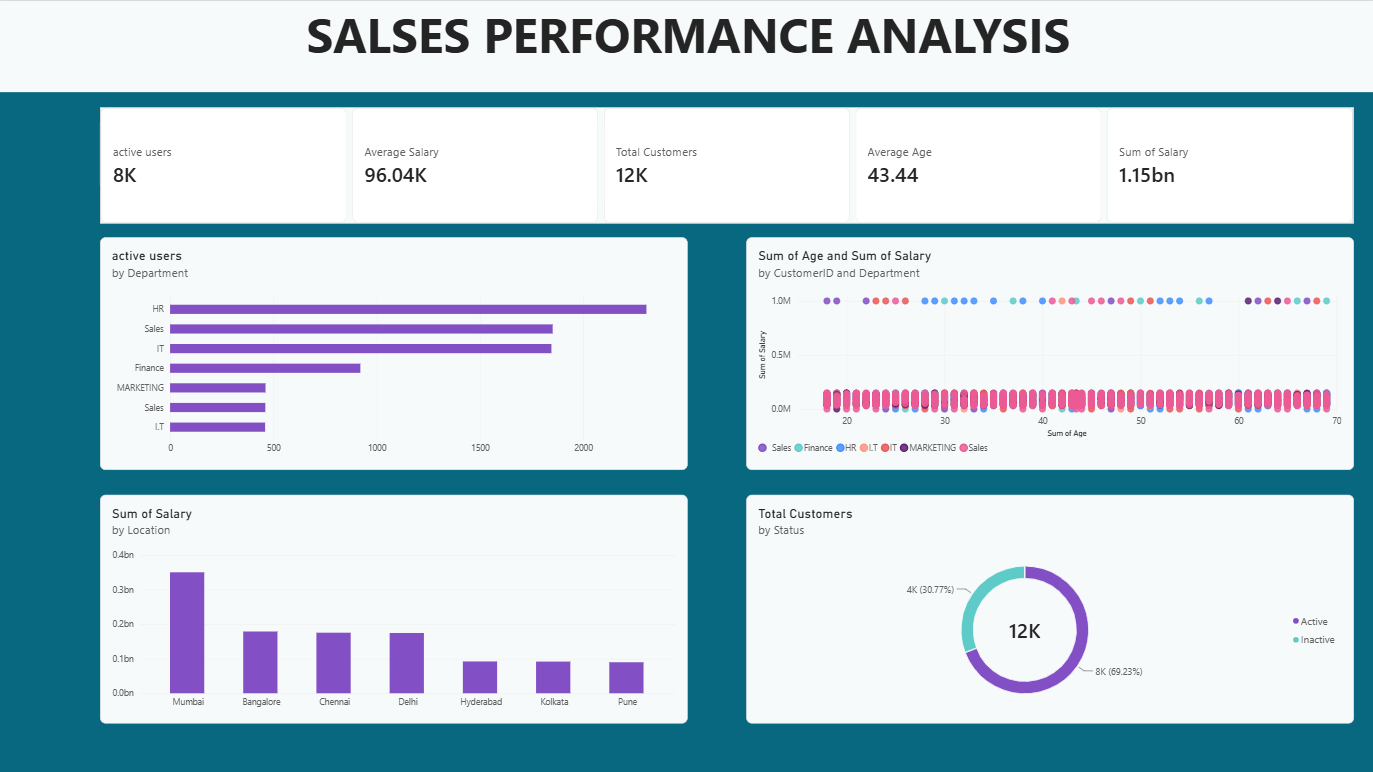

What the dashboard file says about the page in this screenshot:
{"tool":"powerbi","page":{"name":"Page 1","canvas":[1920,1080],"ordinal":0},"visuals":[{"type":"cardVisual","fields":{"Data":["final_cleaned_dataset.active users","final_cleaned_dataset.Average Salary","final_cleaned_dataset.Total Customers","final_cleaned_dataset.Average Age","Sum(final_cleaned_dataset.Salary)"]},"box":[139.5,148.3,1749.4,162.2],"z":0},{"type":"scatterChart","fields":{"X":["Sum(final_cleaned_dataset.Age)"],"Y":["Sum(final_cleaned_dataset.Salary)"],"Category":["final_cleaned_dataset.CustomerID"],"Series":["final_cleaned_dataset.Department"]},"box":[1041.3,329.7,847.7,324.4],"z":2},{"type":"clusteredBarChart","fields":{"Y":["final_cleaned_dataset.active users"],"Category":["final_cleaned_dataset.Department"]},"box":[139.5,329.7,819.8,324.4],"z":3},{"type":"donutChart","fields":{"Y":["final_cleaned_dataset.Total Customers"],"Category":["final_cleaned_dataset.Status"]},"box":[1041.3,689,847.7,319.2],"z":4},{"type":"columnChart","fields":{"Category":["final_cleaned_dataset.Location"],"Y":["Sum(final_cleaned_dataset.Salary)"]},"box":[139.5,689,819.8,319.2],"z":5},{"type":"textbox","title":"SALSES PERFORMANCE ANALYSIS","box":[0,0,1920.4,127.3],"z":6}]}

Visuals, with their boxes in screenshot pixels (x1, y1, x2, y2), scaled from the page's 1920x1080 canvas onto the 1373x772 screenshot:
cardVisual - final_cleaned_dataset.active users x final_cleaned_dataset.Average Salary: [left=100, top=106, right=1351, bottom=222]
scatterChart - Sum(final_cleaned_dataset.Age) x Sum(final_cleaned_dataset.Salary): [left=745, top=236, right=1351, bottom=468]
clusteredBarChart - final_cleaned_dataset.active users x final_cleaned_dataset.Department: [left=100, top=236, right=686, bottom=468]
donutChart - final_cleaned_dataset.Total Customers x final_cleaned_dataset.Status: [left=745, top=493, right=1351, bottom=721]
columnChart - final_cleaned_dataset.Location x Sum(final_cleaned_dataset.Salary): [left=100, top=493, right=686, bottom=721]
"SALSES PERFORMANCE ANALYSIS" textbox: [left=0, top=0, right=1372, bottom=91]
